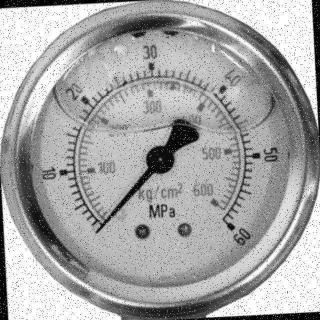gauge: (0, 0, 320, 320), (214, 210, 252, 247), (88, 207, 115, 243), (146, 145, 176, 174), (90, 224, 105, 239)
